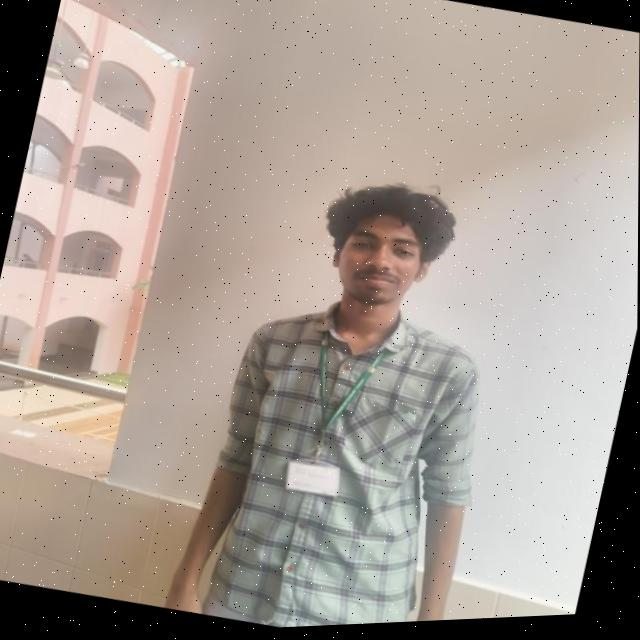id_card: (280, 320, 376, 507)
